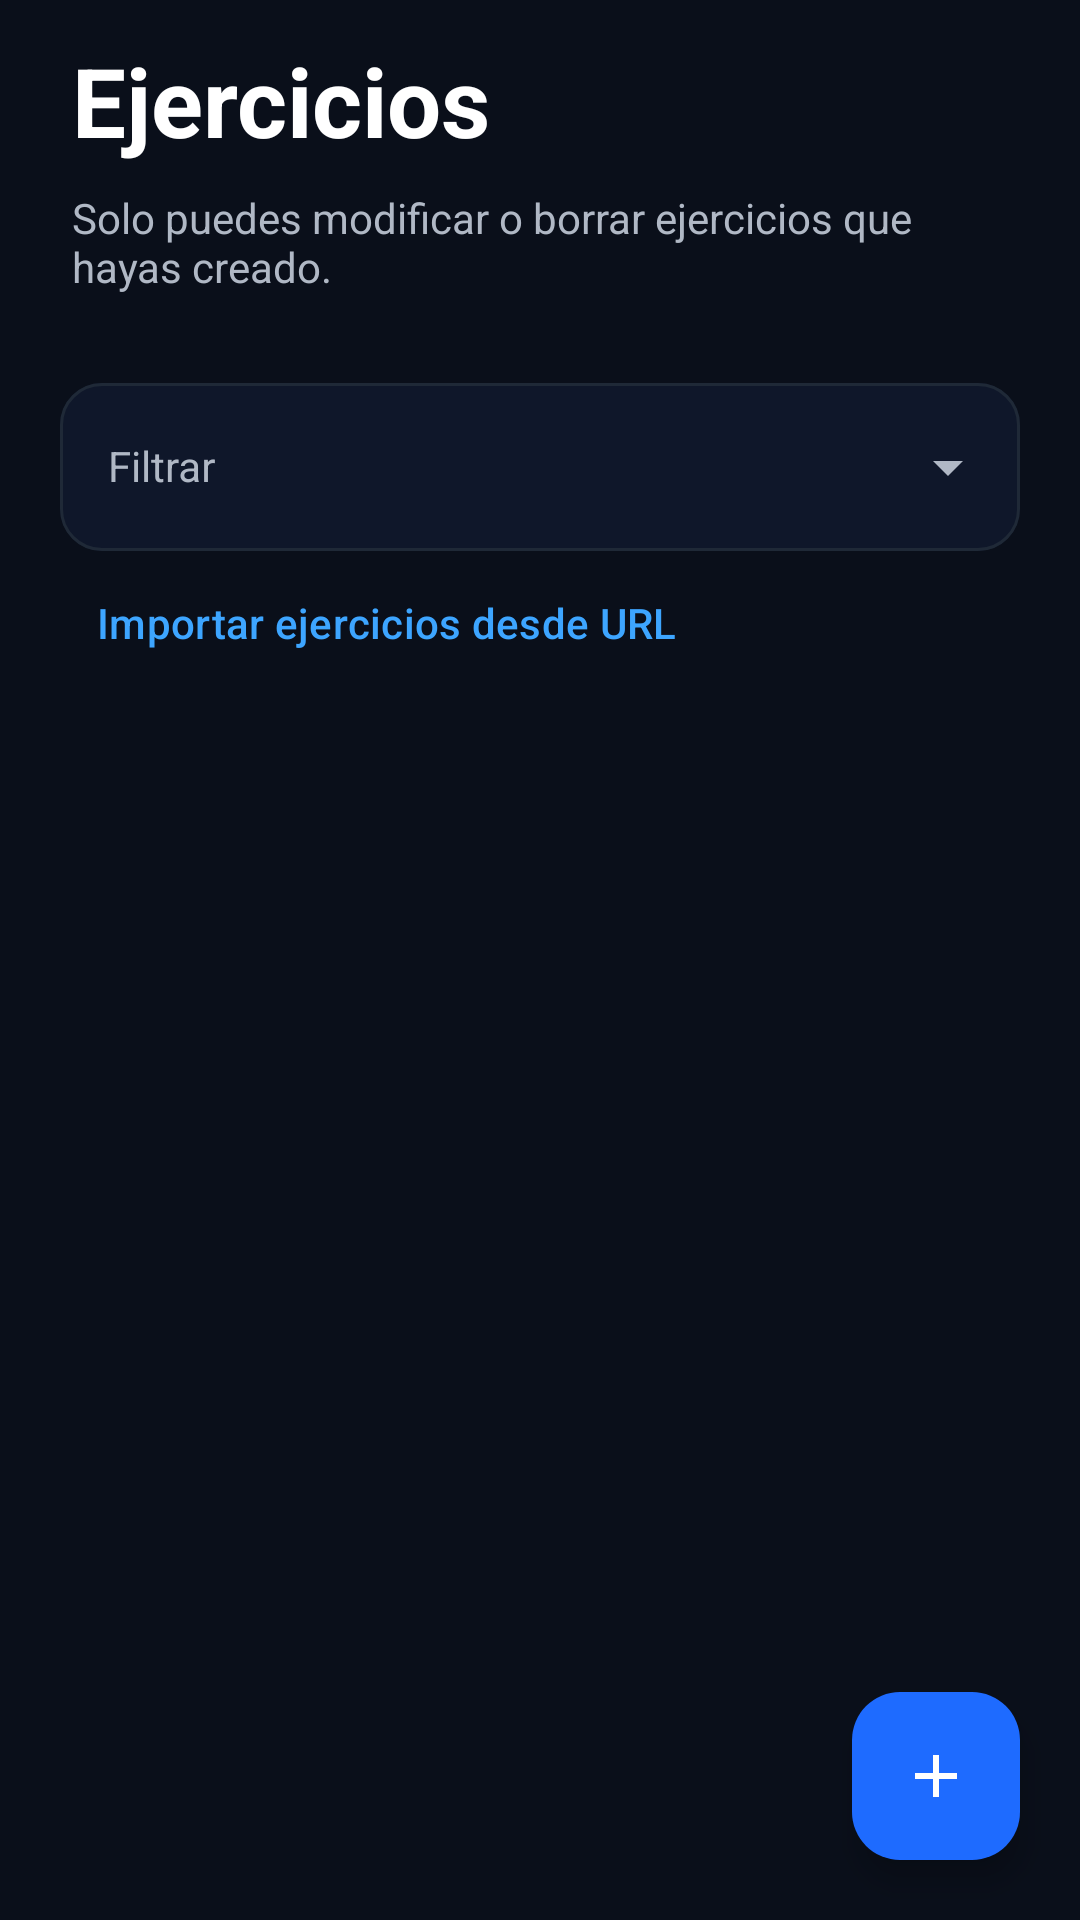

Screen size 1080x1920. Icon name, then its center in pixels as (x=x, y=y):
Agregar ejercicio: (x=936, y=1776)
